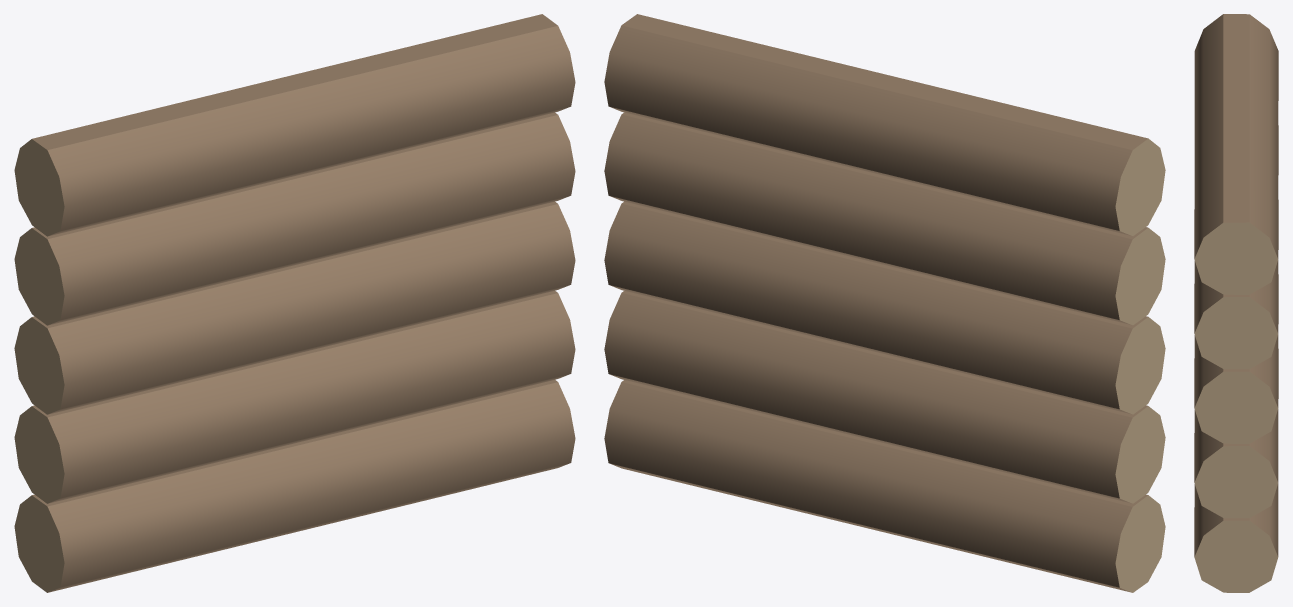
The model's file is log_wall_narrow_half.glb.
3 renders of one model, left to right at view 1: azimuth 30°, elevation 25°; view 2: azimuth 150°, elevation 25°; view 3: azimuth 270°, elevation 25°, orthographic. The views are drawn at different scales.
Visible parts, largest first — view 1: Wall; view 2: Wall; view 3: Wall.
Part boxes in pixels (bbox=[...]): Wall: bbox=[14, 14, 575, 592]; Wall: bbox=[604, 14, 1165, 592]; Wall: bbox=[1194, 14, 1278, 592].
Bounding box in the file's own units: 1.8 × 1.49 × 0.307.
